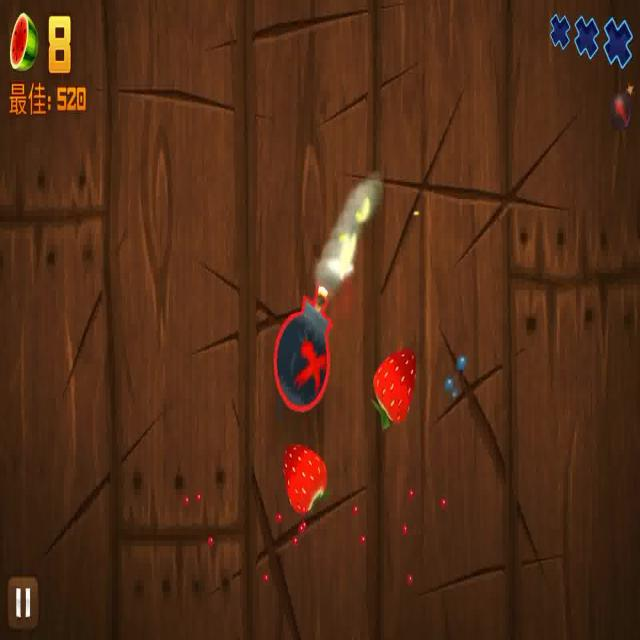bomb: (272, 274, 335, 416)
fruit: (282, 436, 334, 524), (370, 348, 418, 424)
